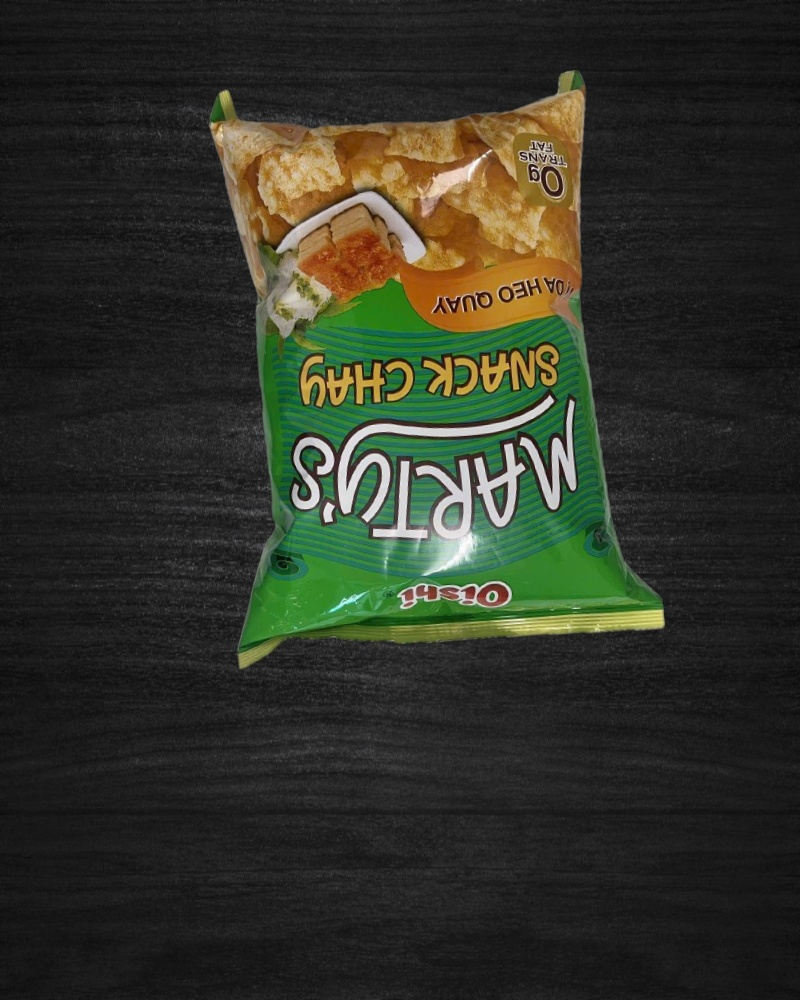Snack chay: (209, 57, 665, 669)
